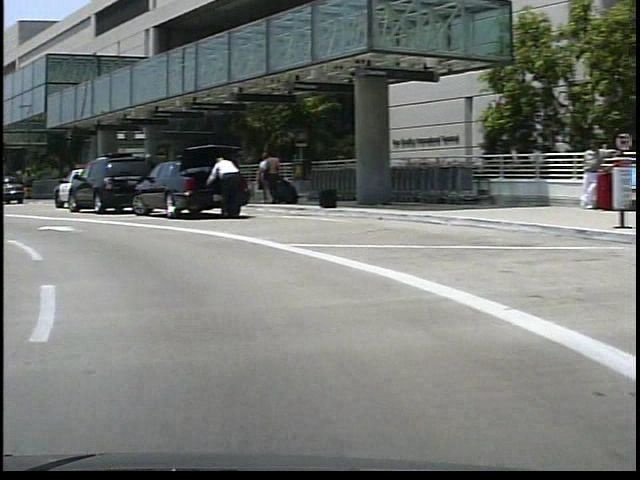person: (200, 156, 242, 225), (258, 153, 278, 209), (250, 152, 268, 209)
